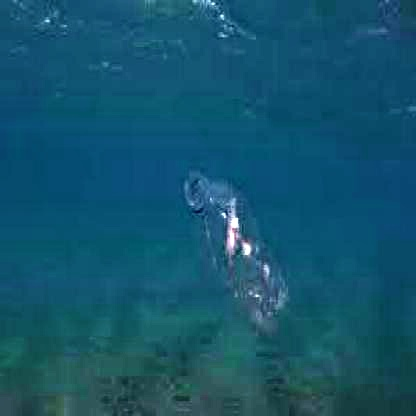pbottle: (167, 158, 300, 327)
